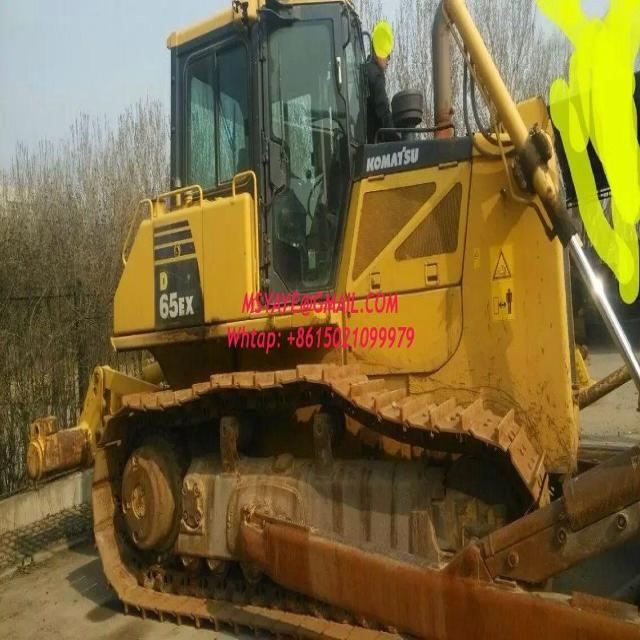buldozerpayloadergrader: (61, 7, 639, 633)
